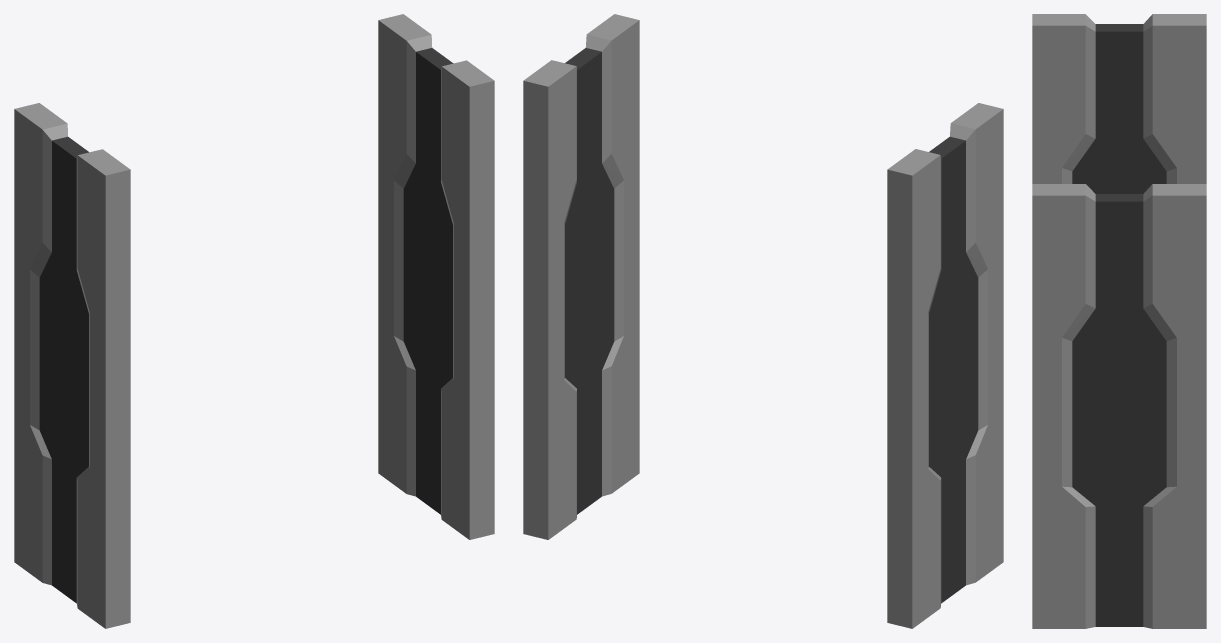
The model's file is metal_detector.FBX.
The picture shows the model from 3 angles, left to right: view 1: azimuth 30°, elevation 25°; view 2: azimuth 150°, elevation 25°; view 3: azimuth 270°, elevation 25°; orthographic projection. The views are drawn at different scales.
Visible parts, largest first — view 1: metal_detector; view 2: metal_detector; view 3: metal_detector.
Boxes of the visible parts, x1,y1,x2,y2 form: metal_detector: (14, 14, 494, 628); metal_detector: (523, 14, 1003, 628); metal_detector: (1032, 14, 1206, 628).
Size of the model in its own units: 103 by 115 by 41.99.
